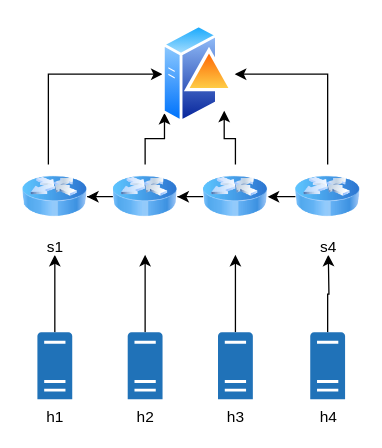
This 382x448 diagram has some shape labels left out. Here are the shapes that lost their labels. From the top down, the centre of each, then its label:
At (198,73): "c0".
At (144,196): "s2".
At (235,196): "s3".
